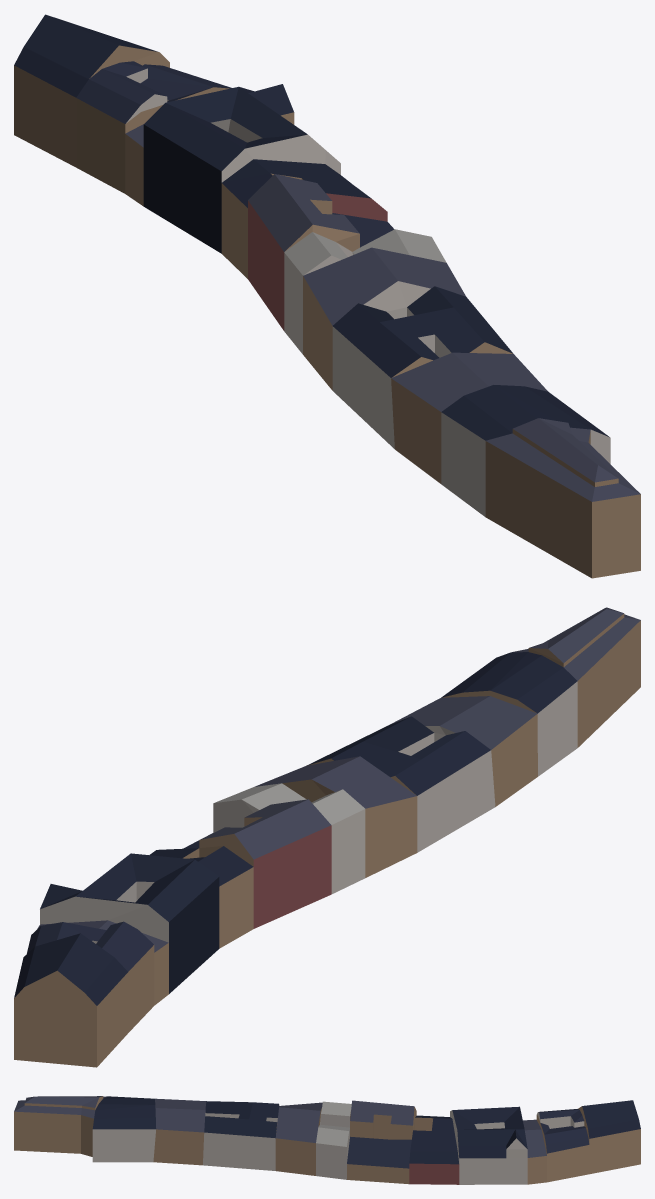
Rendered from Building_05.fbx.
3 views of the same model, one above another, from view 1: azimuth 30°, elevation 25°; view 2: azimuth 150°, elevation 25°; view 3: azimuth 270°, elevation 25° (orthographic). The views are drawn at different scales.
Parts seen in each view (by area): view 1: Building_05; view 2: Building_05; view 3: Building_05.
Boxes of the visible parts, left/top/right/bottom form: Building_05: left=14, top=14, right=640, bottom=578; Building_05: left=14, top=607, right=640, bottom=1067; Building_05: left=14, top=1096, right=640, bottom=1184.
Size of the model in its own units: 32.54 by 16.46 by 174.
